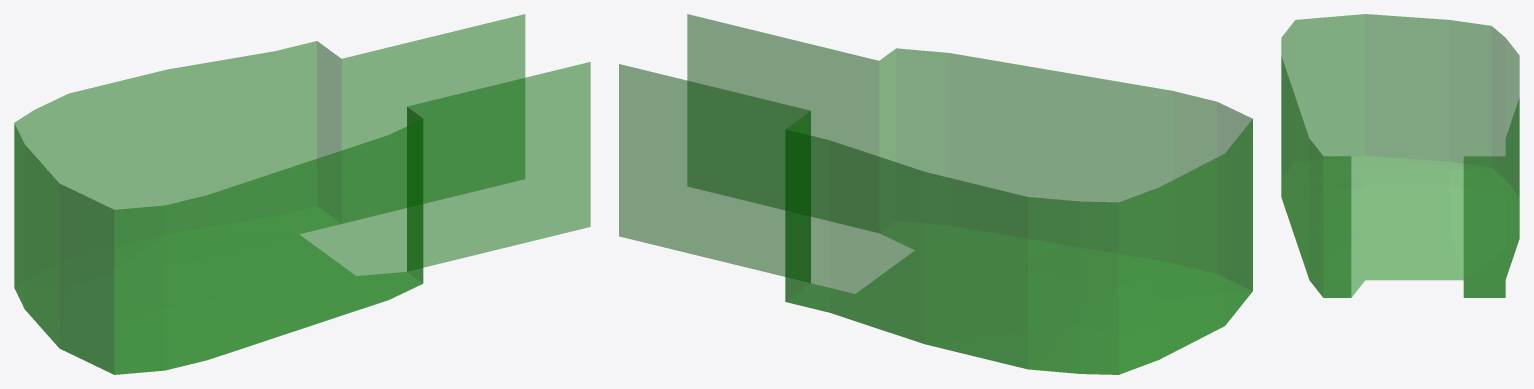
Rendered from air_wall1.obj.
3 renders of one model, left to right at view 1: azimuth 30°, elevation 25°; view 2: azimuth 150°, elevation 25°; view 3: azimuth 270°, elevation 25°, orthographic. The views are drawn at different scales.
Size of the model in its own units: 37 by 11.16 by 17.
